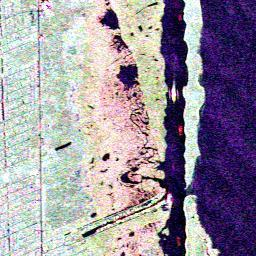Ship: (168, 80, 179, 104)
